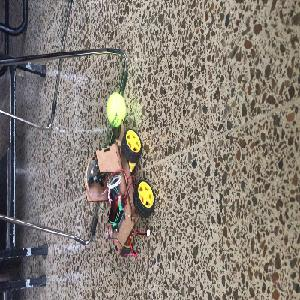Ball: (106, 92, 126, 127)
Robot: (84, 120, 154, 256)
